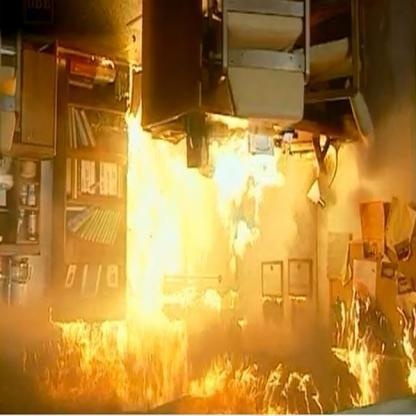fire: (10, 158, 416, 411)
